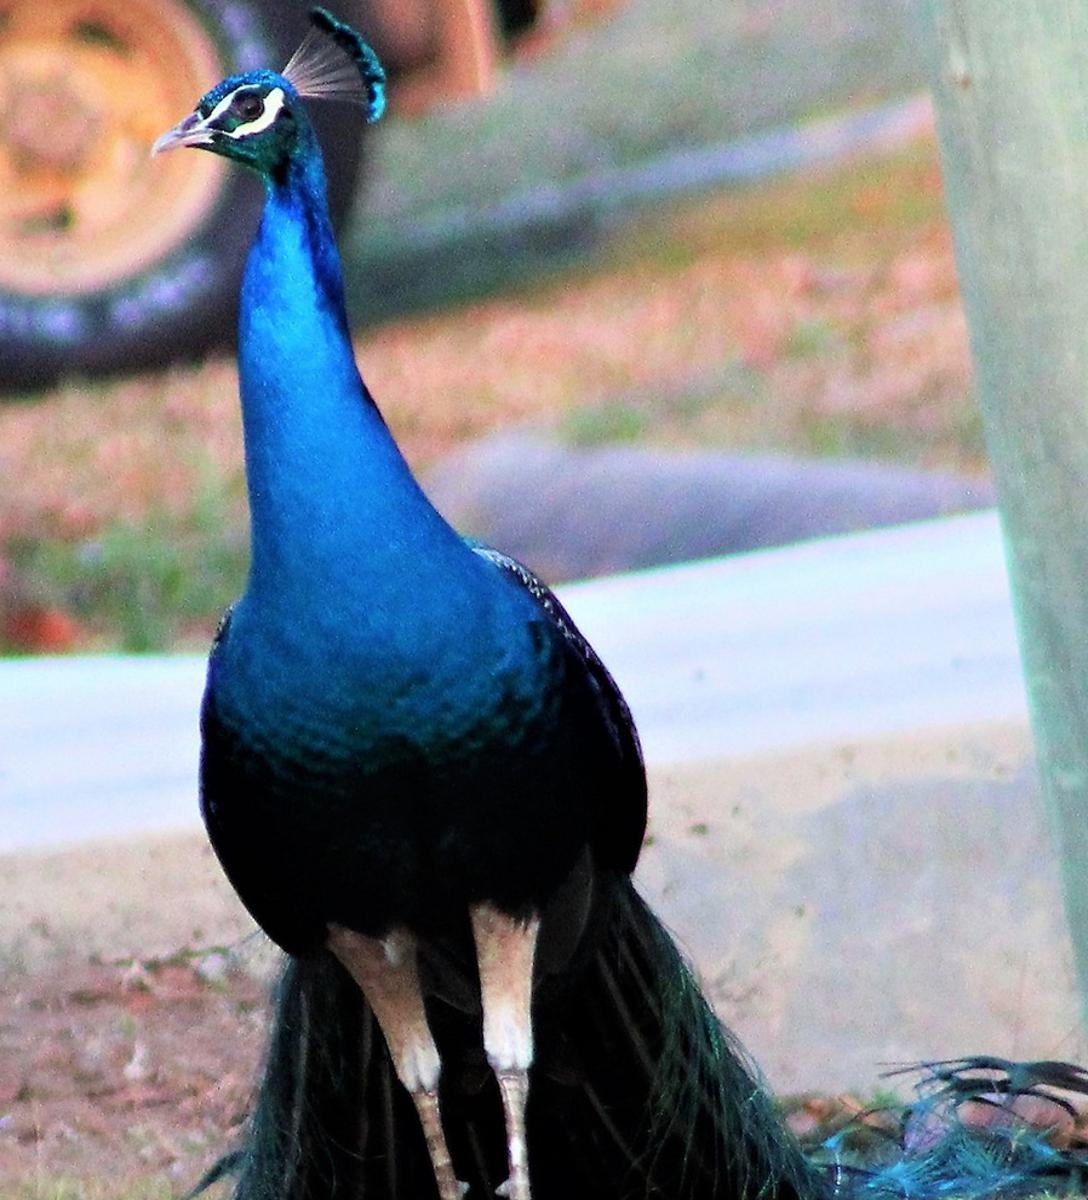peacock: (119, 34, 1088, 1200)
